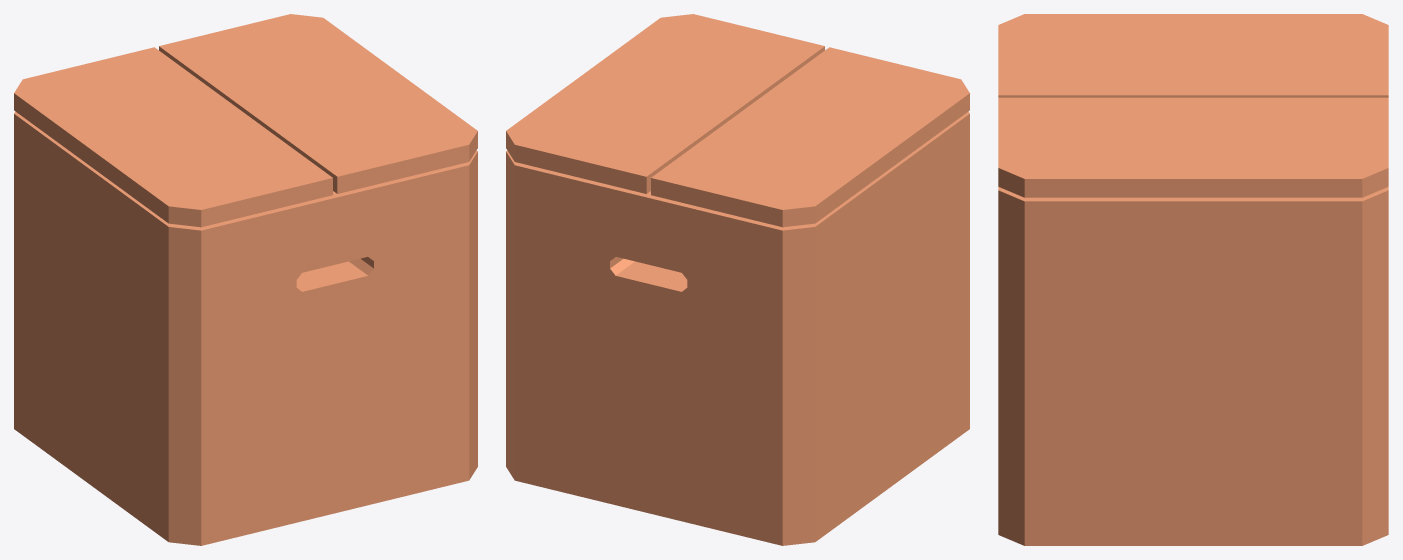
The picture shows the model from 3 angles, left to right: view 1: azimuth 30°, elevation 25°; view 2: azimuth 150°, elevation 25°; view 3: azimuth 270°, elevation 25°; orthographic projection. The views are drawn at different scales.
Visible parts, largest first — view 1: Box; view 2: Box; view 3: Box.
Part boxes in pixels (x1,y1,x2,y2): Box: [14, 14, 477, 545]; Box: [506, 14, 969, 545]; Box: [998, 14, 1388, 545].
Size of the model in its own units: 1.12 by 1.16 by 1.12.
